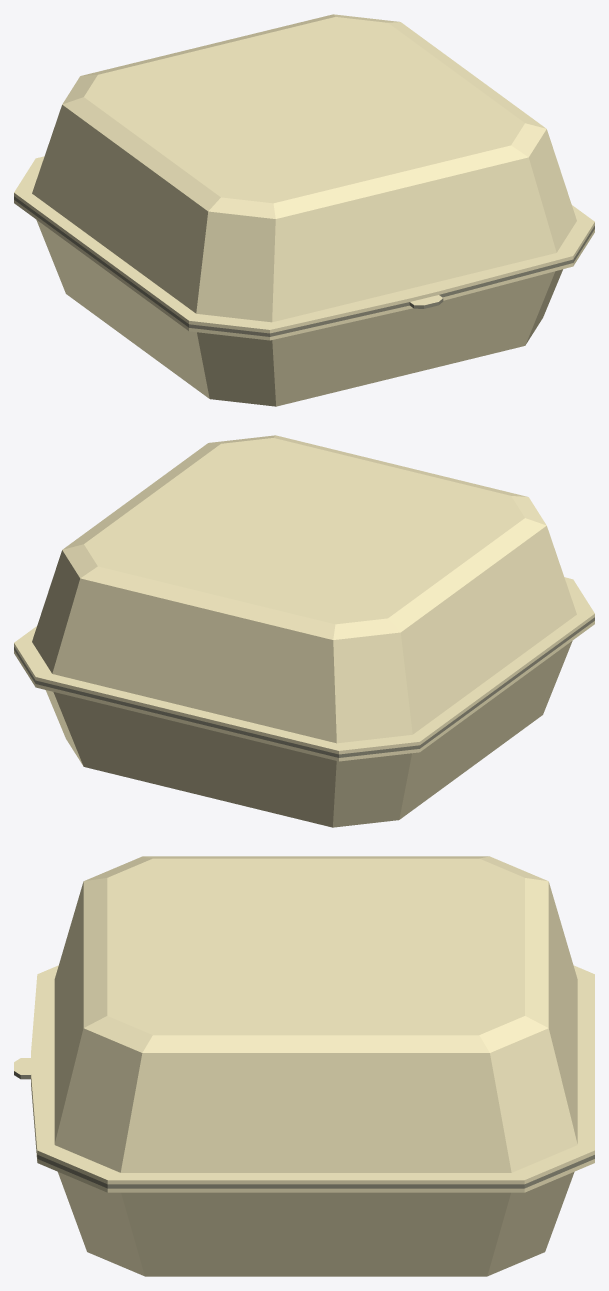
The picture shows the model from 3 angles, top to bottom: view 1: azimuth 30°, elevation 25°; view 2: azimuth 150°, elevation 25°; view 3: azimuth 270°, elevation 25°; orthographic projection. The views are drawn at different scales.
Parts seen in each view (by area): view 1: Cube; view 2: Cube; view 3: Cube.
Part boxes in pixels (<box>): Cube: <box>14,14,594,406</box>; Cube: <box>14,435,594,827</box>; Cube: <box>14,856,594,1276</box>.
Size of the model in its own units: 1364 by 628 by 1421.
